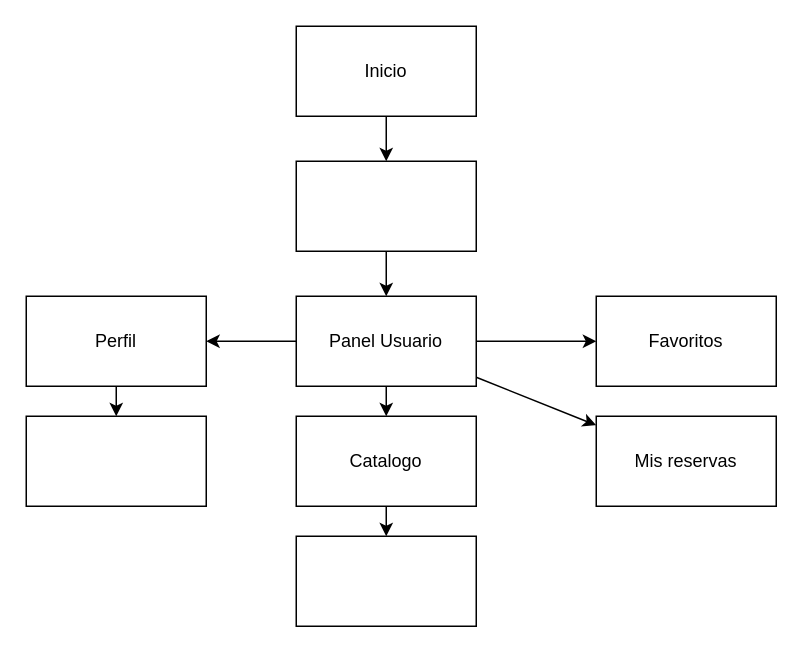
Image size: 803x653. Some labels were removed from this diagram. Each missing label, with the centre of its shape:
"Login/Registro" belongs at point 385,205.
"Panel Vendedor" belongs at point 115,460.
"Reservar" belongs at point 385,580.
